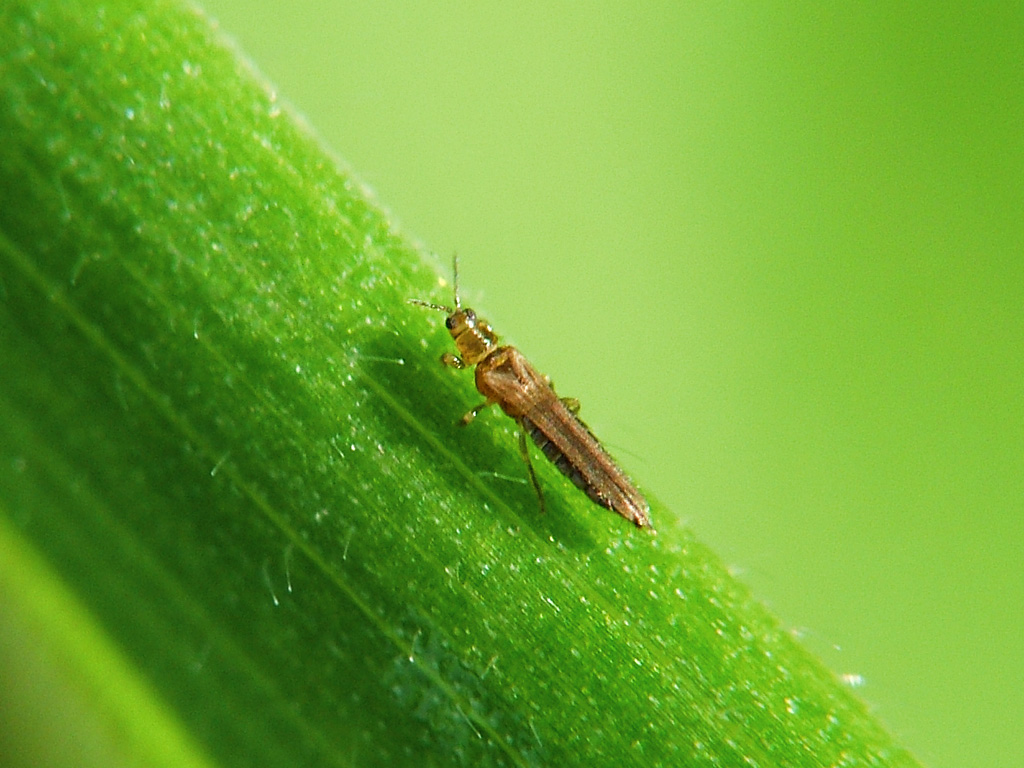Thripidae: (405, 251, 653, 533)
